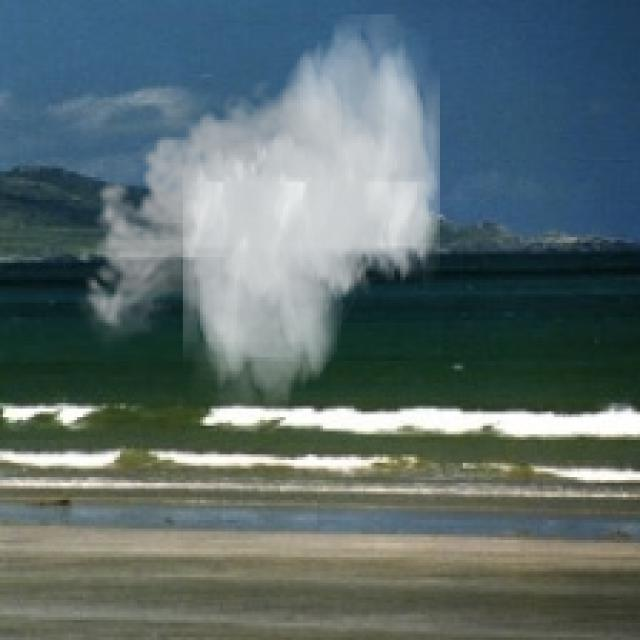smoke: (74, 14, 440, 414)
